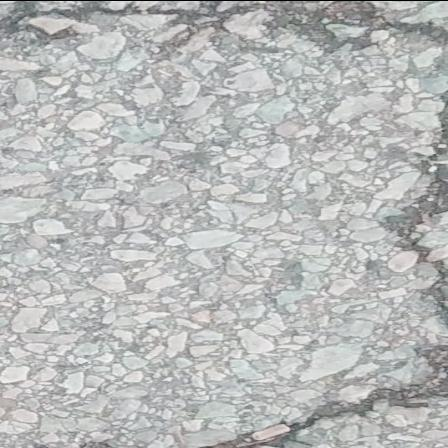crack: (185, 335, 448, 448), (0, 0, 448, 59), (378, 88, 448, 327)
